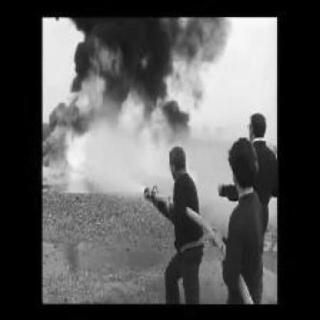Fire: (44, 47, 177, 195)
Smoke: (64, 18, 234, 96)
